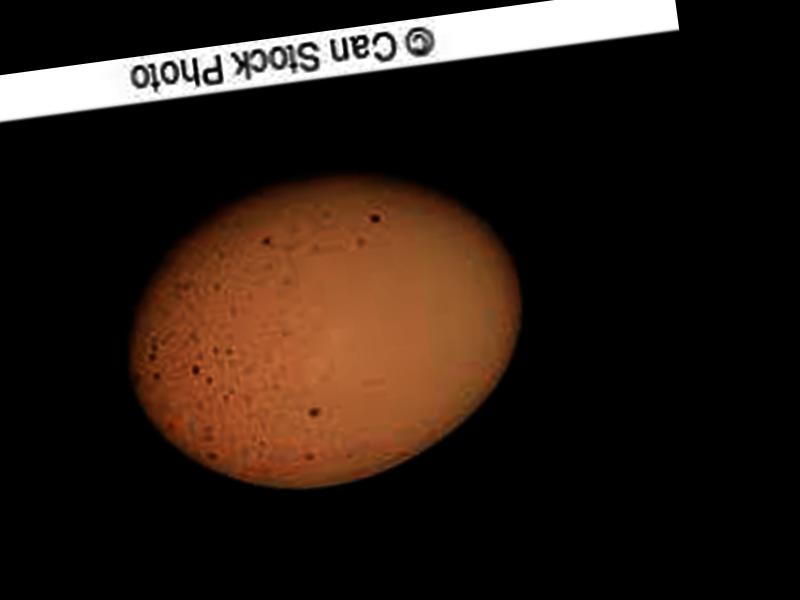Eggs: (107, 143, 544, 510)
